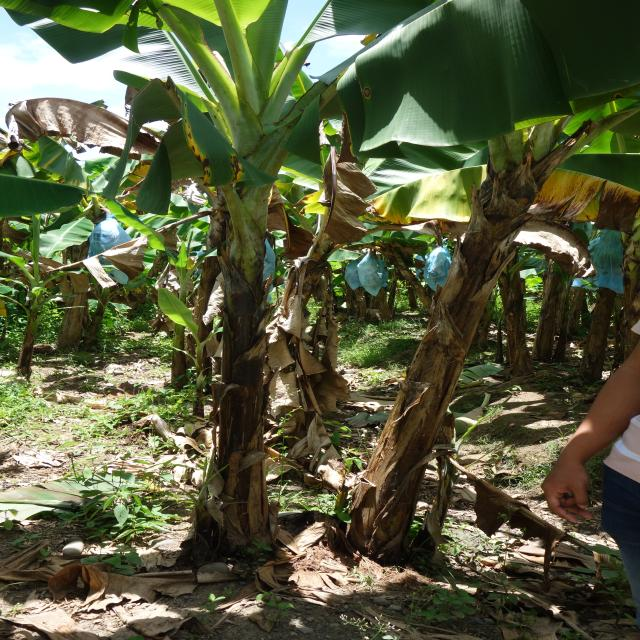Banana-plant: (325, 135, 574, 559), (196, 73, 284, 578)
